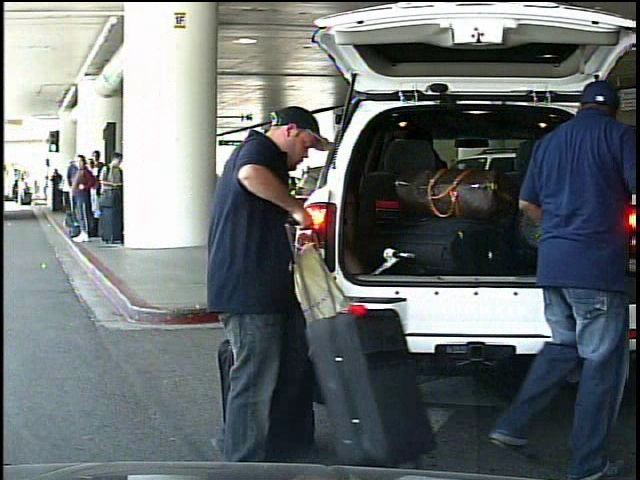person: (470, 78, 637, 480), (180, 95, 328, 464), (18, 176, 28, 207)
